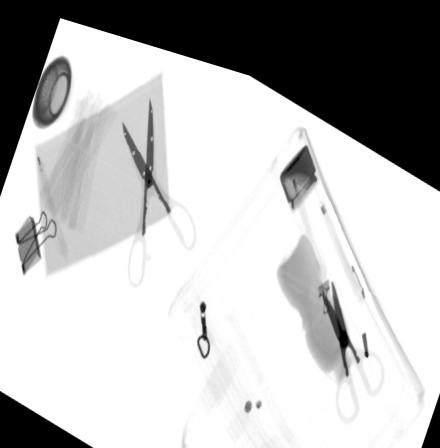Scissors: (121, 85, 196, 283), (320, 256, 385, 402)
